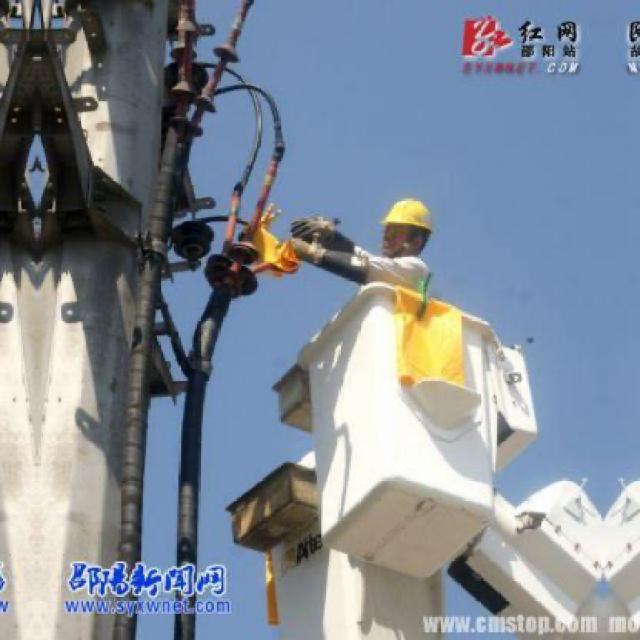helmet: (376, 191, 436, 263)
